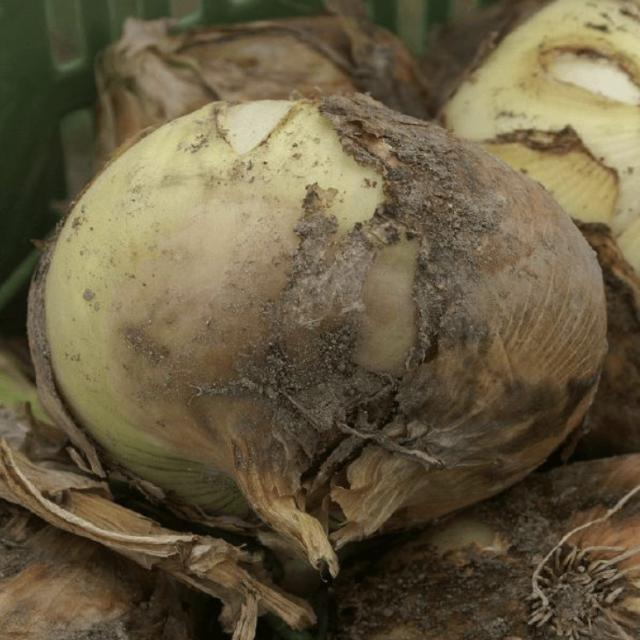mechanical_damage: (29, 93, 607, 576)
